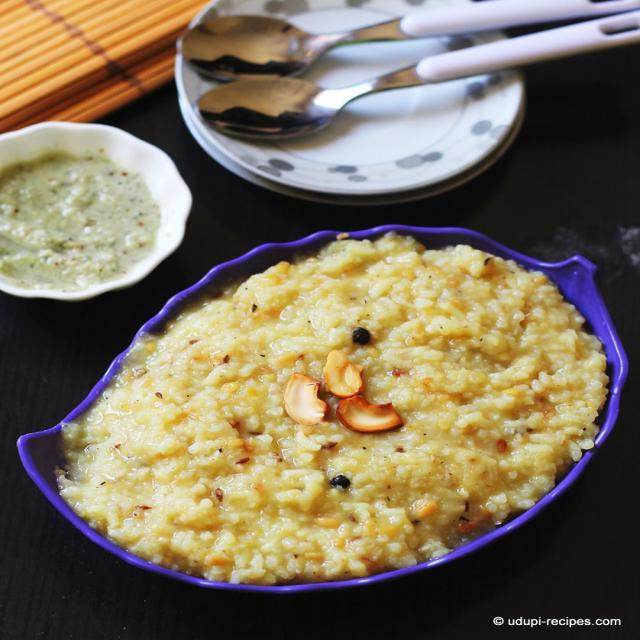khara pongal: (13, 223, 620, 594)
